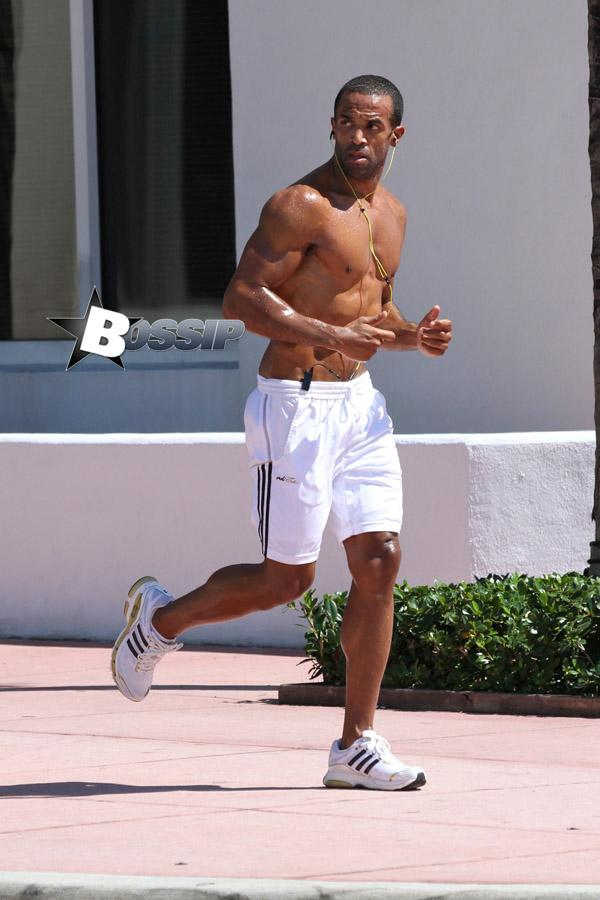person: (112, 70, 450, 791)
